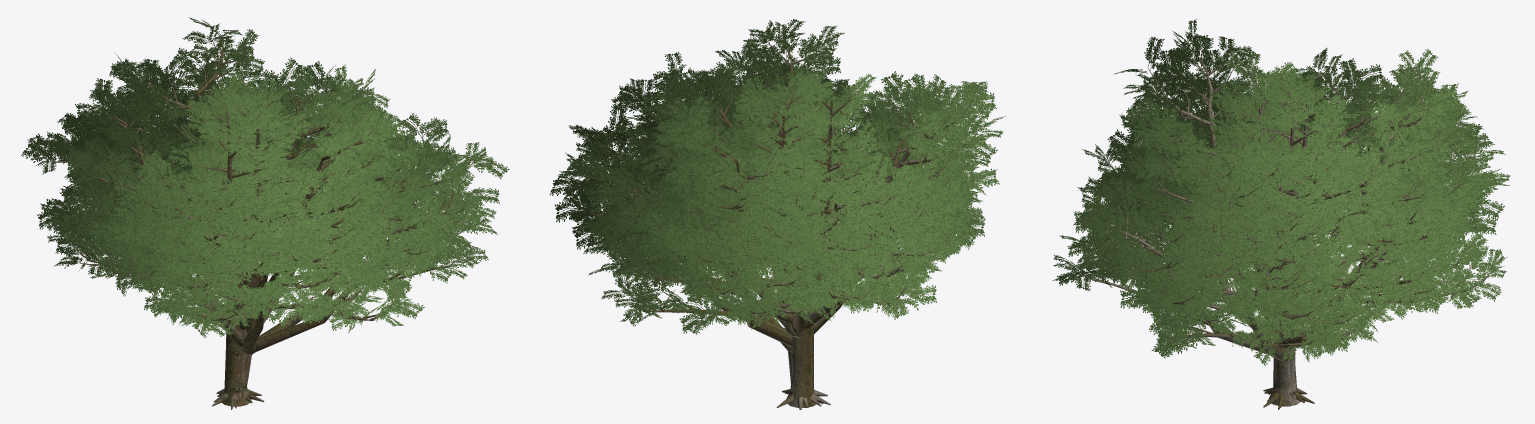
The model's file is camphor.glb.
The picture shows the model from 3 angles, left to right: view 1: azimuth 30°, elevation 25°; view 2: azimuth 150°, elevation 25°; view 3: azimuth 270°, elevation 25°; orthographic projection. The views are drawn at different scales.
Parts seen in each view (by area): view 1: foliage.001, foliage.002, foliage, wood.001, wood.002, wood; view 2: foliage.001, foliage, foliage.002, wood.001, wood, wood.002; view 3: foliage.001, foliage.002, foliage, wood.001, wood.002, wood.
Part boxes in pixels (left/top/right/bottom): foliage.001: left=56, top=17, right=414, bottom=277; foliage.002: left=67, top=61, right=509, bottom=337; foliage: left=21, top=78, right=442, bottom=323; wood.001: left=83, top=33, right=378, bottom=409; wood.002: left=105, top=99, right=473, bottom=402; wood: left=49, top=120, right=414, bottom=408; foliage.001: left=639, top=19, right=1005, bottom=282; foliage: left=606, top=74, right=985, bottom=323; foliage.002: left=550, top=64, right=999, bottom=334; wood.001: left=669, top=42, right=976, bottom=409; wood: left=632, top=128, right=952, bottom=407; wood.002: left=579, top=98, right=971, bottom=409; foliage.001: left=1094, top=19, right=1477, bottom=252; foliage.002: left=1052, top=79, right=1509, bottom=365; foliage: left=1098, top=81, right=1510, bottom=319; wood.001: left=1124, top=46, right=1456, bottom=409; wood.002: left=1080, top=117, right=1492, bottom=407; wood: left=1133, top=137, right=1468, bottom=401.
Bounding box in the file's own units: 17.65 × 13.48 × 17.28.
Materials: 2 (2 with a texture image).
